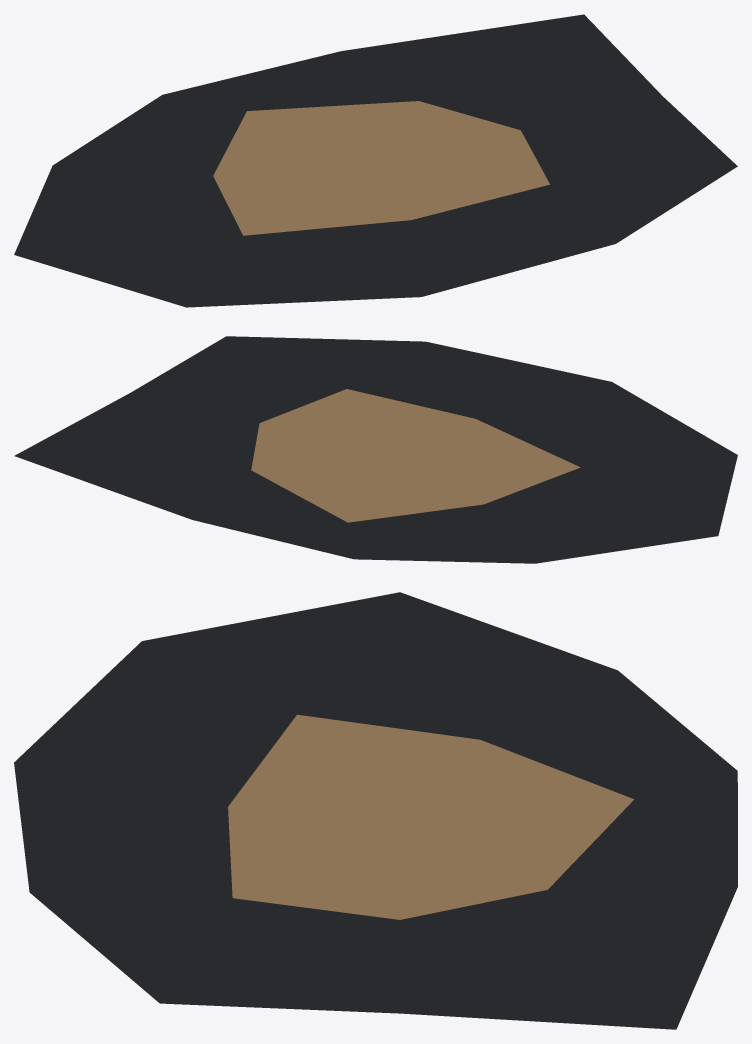
File: Decal_Pothole_Small.glb
3 views of the same model, one above another, from view 1: azimuth 30°, elevation 25°; view 2: azimuth 150°, elevation 25°; view 3: azimuth 270°, elevation 25° (orthographic). The views are drawn at different scales.
Visible parts, largest first — view 1: Decal_Pothole_Small_Rubber, Decal_Pothole_Small_Dirt; view 2: Decal_Pothole_Small_Rubber, Decal_Pothole_Small_Dirt; view 3: Decal_Pothole_Small_Rubber, Decal_Pothole_Small_Dirt.
Boxes of the visible parts, bbox=[...] form: Decal_Pothole_Small_Rubber: bbox=[14, 14, 737, 307]; Decal_Pothole_Small_Dirt: bbox=[213, 101, 549, 235]; Decal_Pothole_Small_Rubber: bbox=[14, 336, 737, 563]; Decal_Pothole_Small_Dirt: bbox=[251, 389, 580, 522]; Decal_Pothole_Small_Rubber: bbox=[14, 592, 737, 1029]; Decal_Pothole_Small_Dirt: bbox=[228, 714, 633, 919].
Size of the model in its own units: 0.7463 by 0.001 by 0.5218.
